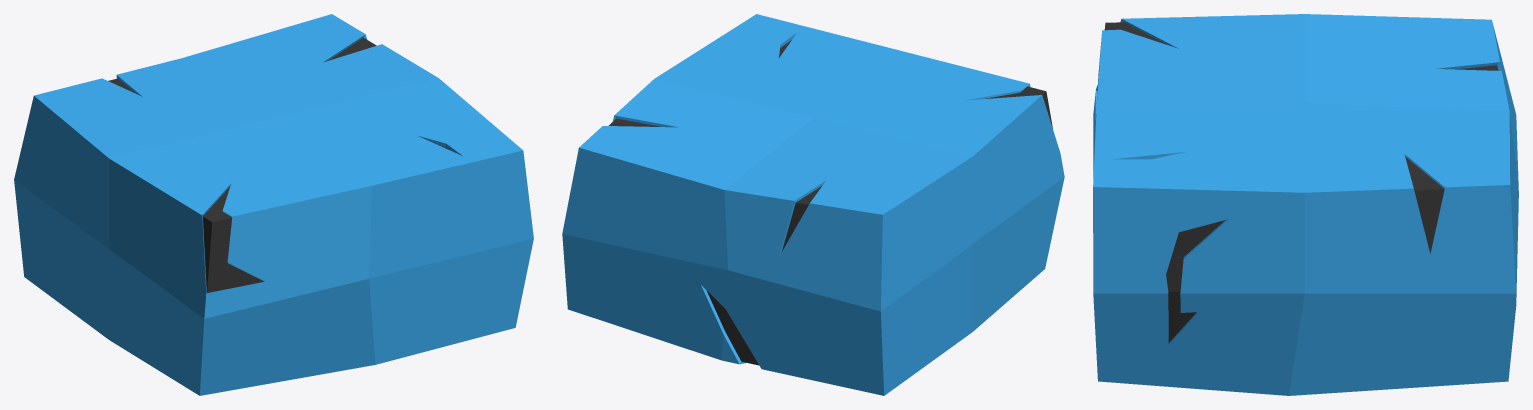
Rendered from TileSpaceBlue.fbx.
3 renders of one model, left to right at view 1: azimuth 30°, elevation 25°; view 2: azimuth 150°, elevation 25°; view 3: azimuth 270°, elevation 25°, orthographic. The views are drawn at different scales.
Visible parts, largest first — view 1: Cube; view 2: Cube; view 3: Cube.
Boxes of the visible parts, x1,y1,x2,y2 form: Cube: (14, 14, 533, 395); Cube: (562, 14, 1064, 395); Cube: (1093, 14, 1518, 395).
Bounding box in the file's own units: 190 × 124 × 191.
